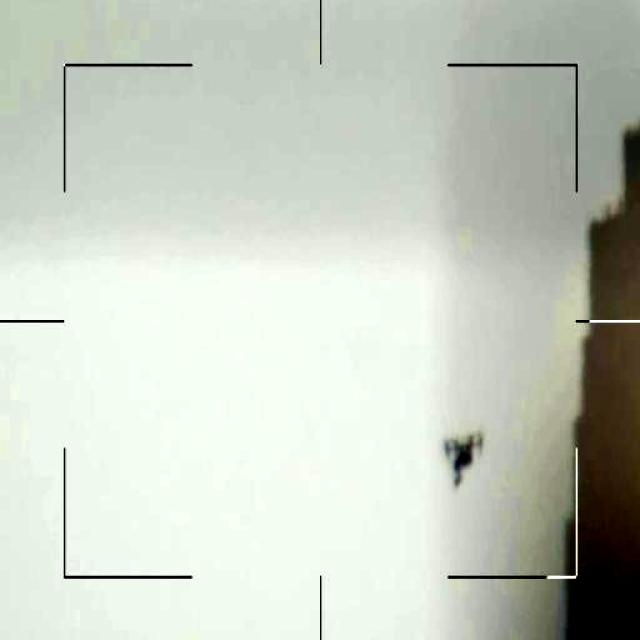bird: (441, 419, 494, 492)
